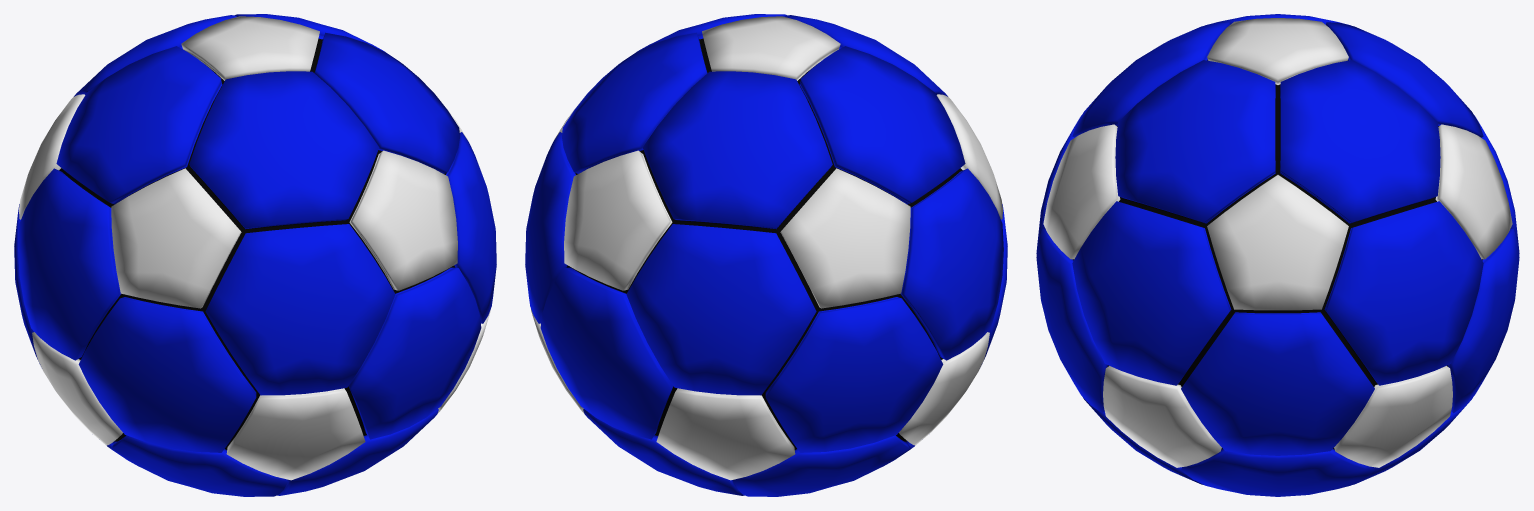
3 renders of one model, left to right at view 1: azimuth 30°, elevation 25°; view 2: azimuth 150°, elevation 25°; view 3: azimuth 270°, elevation 25°, orthographic.
Parts seen in each view (by area): view 1: Icosphere; view 2: Icosphere; view 3: Icosphere.
Part boxes in pixels (x1,y1,x2,y2): Icosphere: (14,14,496,496); Icosphere: (525,14,1007,496); Icosphere: (1036,14,1519,496).
Size of what is drawn, in the model's own units: 171 by 171 by 171.
